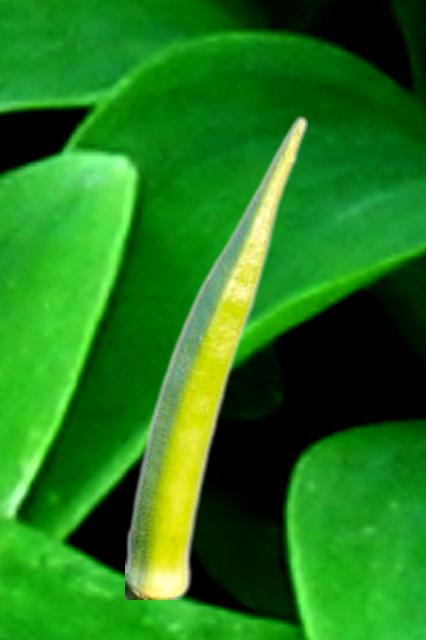okra: (125, 114, 306, 598)
